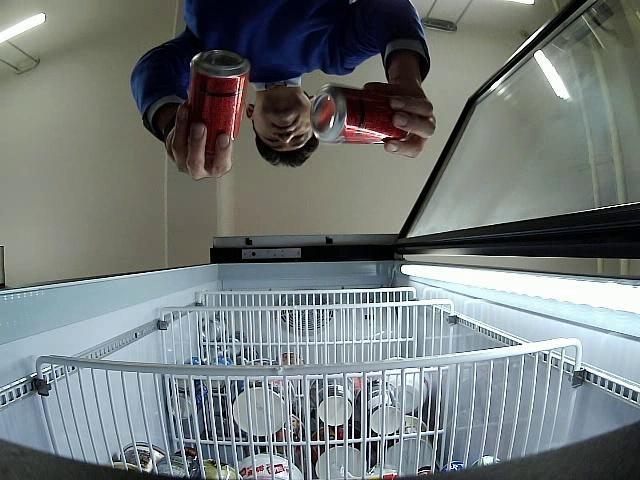11_cocaColaZero: (186, 48, 250, 154), (310, 84, 408, 144)
